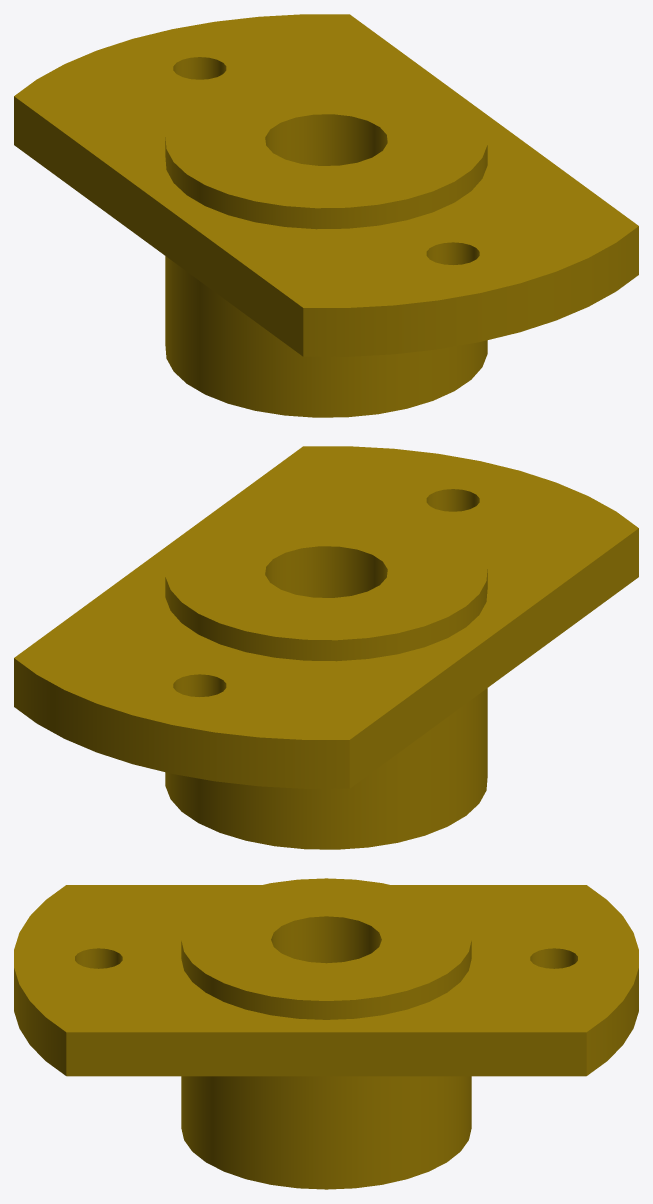
File: anti_backlash.FBX
3 views of the same model, one above another, from view 1: azimuth 30°, elevation 25°; view 2: azimuth 150°, elevation 25°; view 3: azimuth 270°, elevation 25° (orthographic). The views are drawn at different scales.
Parts seen in each view (by area): view 1: stitch_result_stitch all; view 2: stitch_result_stitch all; view 3: stitch_result_stitch all.
Part boxes in pixels (<box>): stitch_result_stitch all: <box>14,14,638,417</box>; stitch_result_stitch all: <box>14,446,638,849</box>; stitch_result_stitch all: <box>14,878,638,1189</box>.
Size of the model in its own units: 0.9905 by 0.5906 by 1.78.
